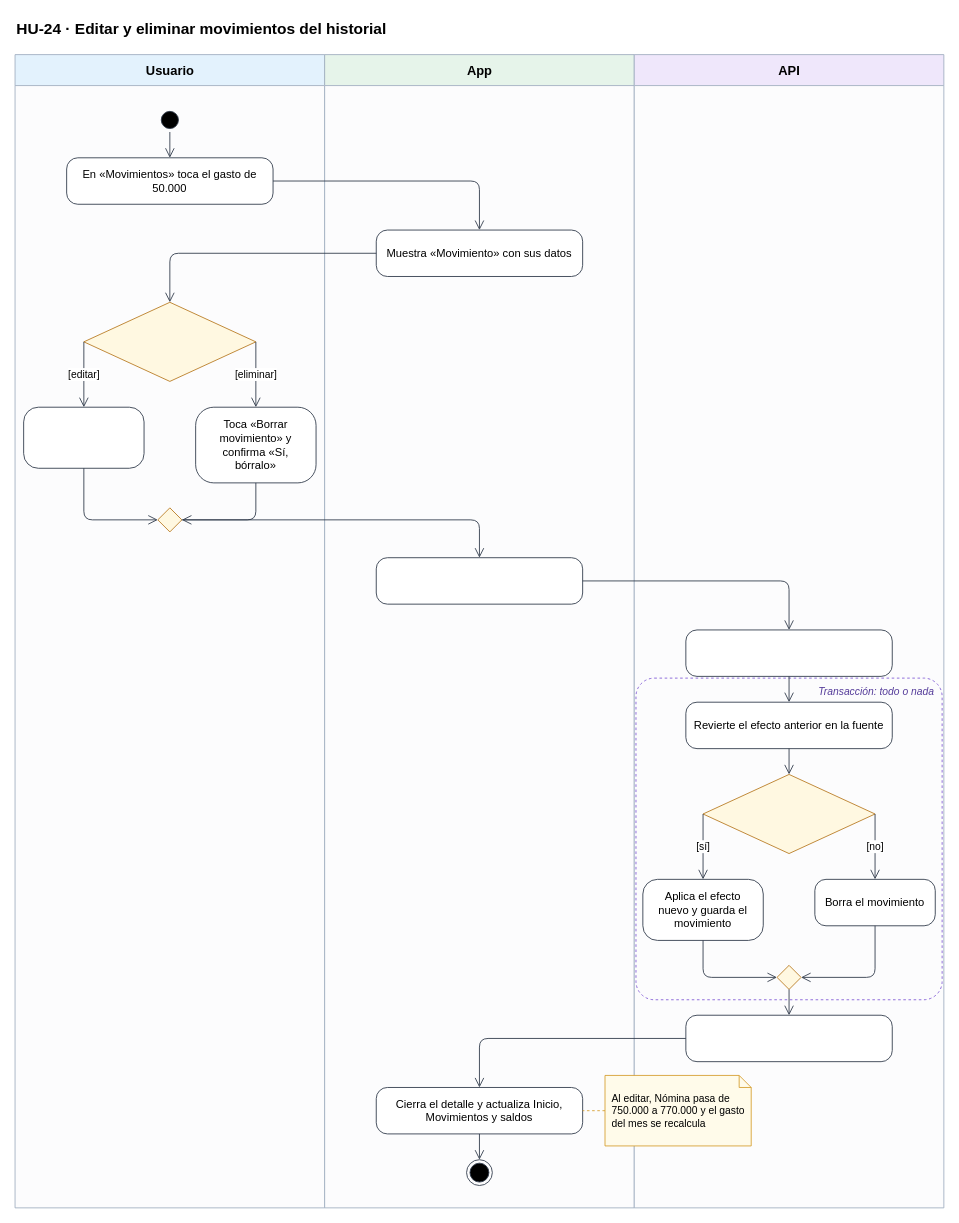
The diagram is 959 pixels wide and 1223 high, and some of its shapes have lost their labels. Here are the shapes that lost their labels. From the top down, the centre of each, then its label:
point (169, 341): ¿Qué quiere hacer Ana?
point (83, 437): Cambia el monto a 30.000 y toca «Guardar cambios»
point (479, 580): Envía el cambio o la eliminación
point (788, 652): Busca el movimiento de Ana y valida los datos
point (788, 814): ¿Es una edición?
point (788, 1038): Confirma la transacción y responde
